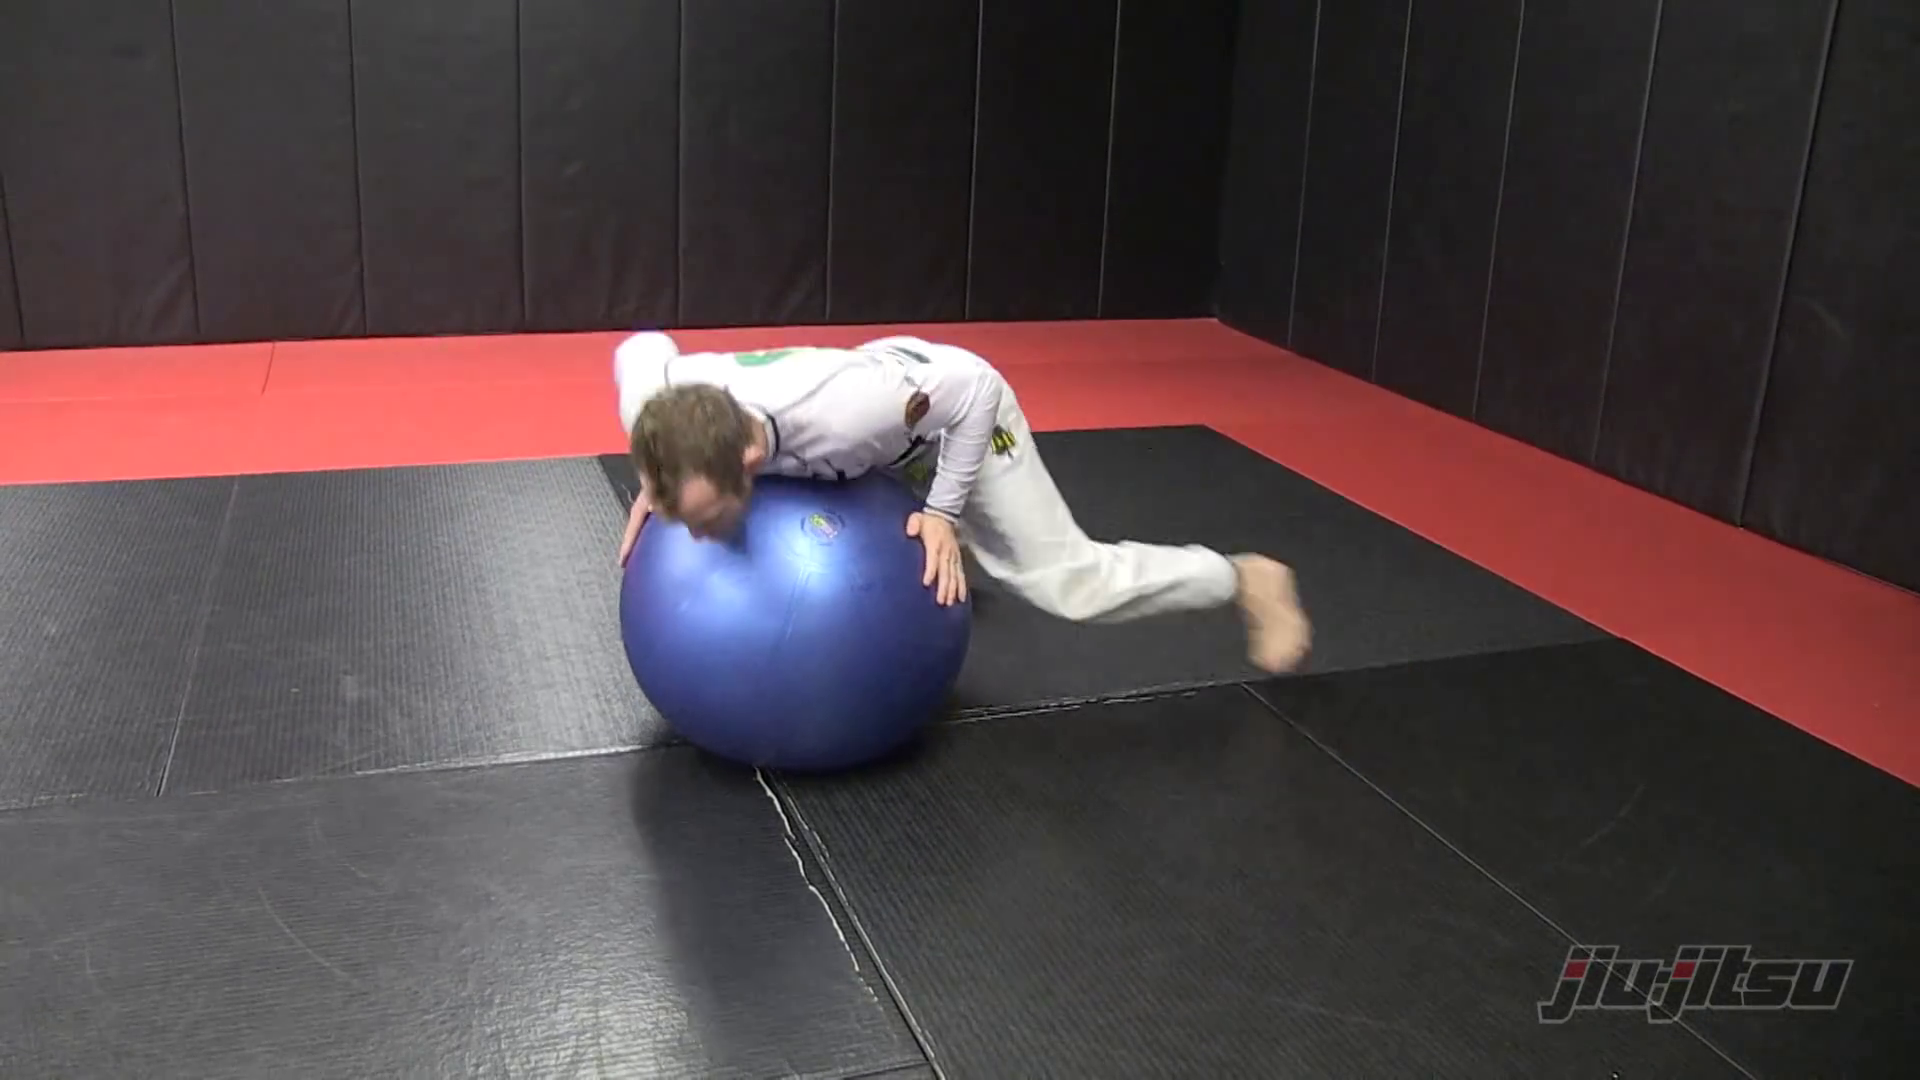yogaball: (597, 462, 996, 793)
